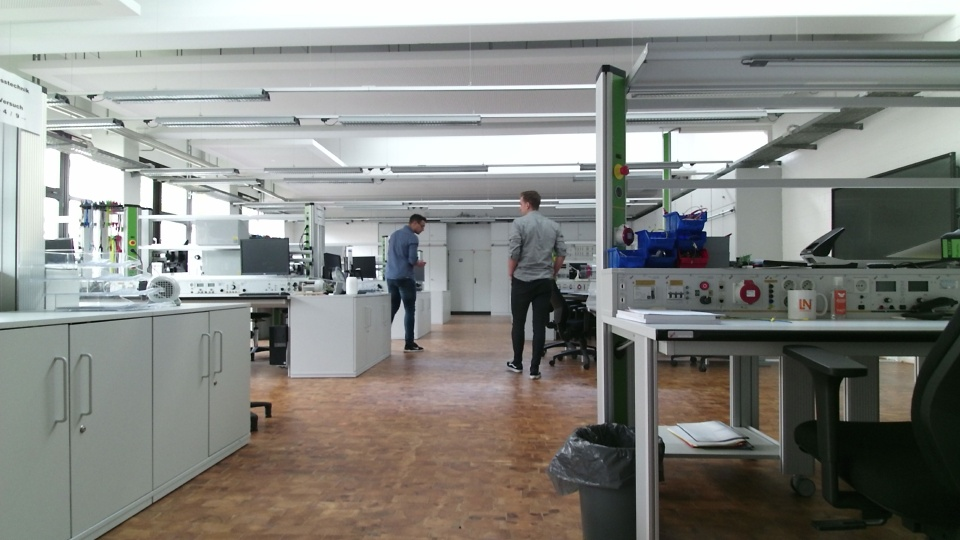Person: (505, 185, 569, 382), (384, 212, 429, 355)
